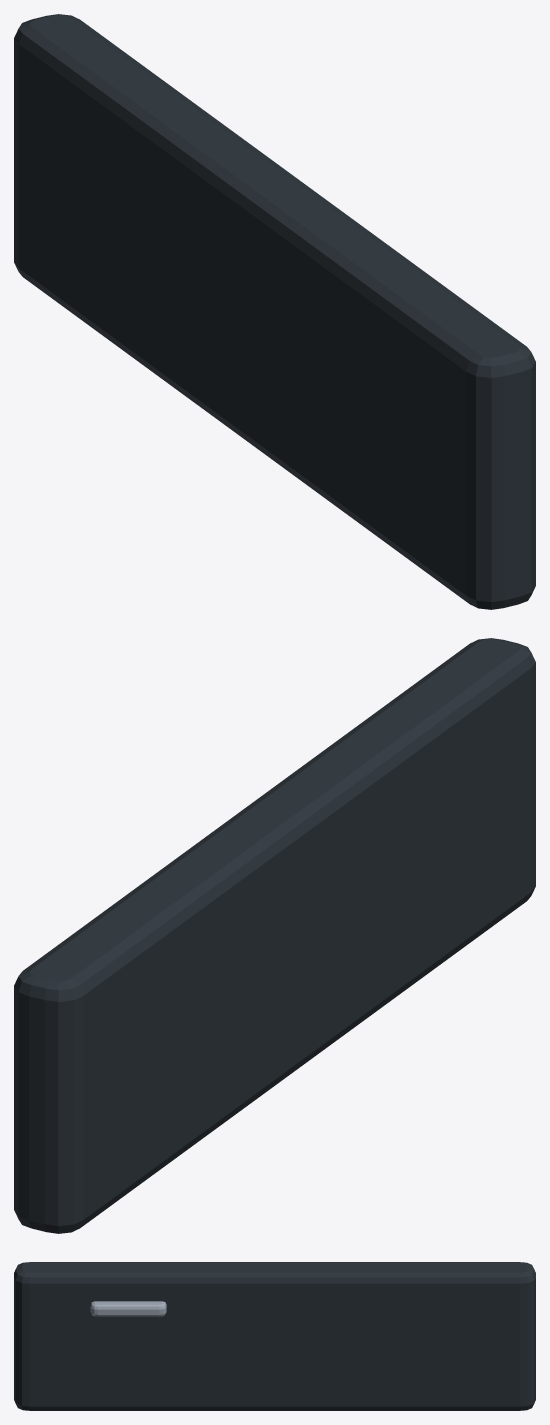
File: cabin_door.gltf
3 renders of one model, top to bottom at view 1: azimuth 30°, elevation 25°; view 2: azimuth 150°, elevation 25°; view 3: azimuth 270°, elevation 25°, orthographic. The views are drawn at different scales.
Parts seen in each view (by area): view 1: cabin_door; view 2: cabin_door; view 3: cabin_door.
Boxes of the visible parts, x1,y1,x2,y2 form: cabin_door: (14,14,535,609); cabin_door: (14,638,535,1233); cabin_door: (14,1262,535,1410).
Size of the model in its own units: 0.1392 by 0.4 by 1.37.
